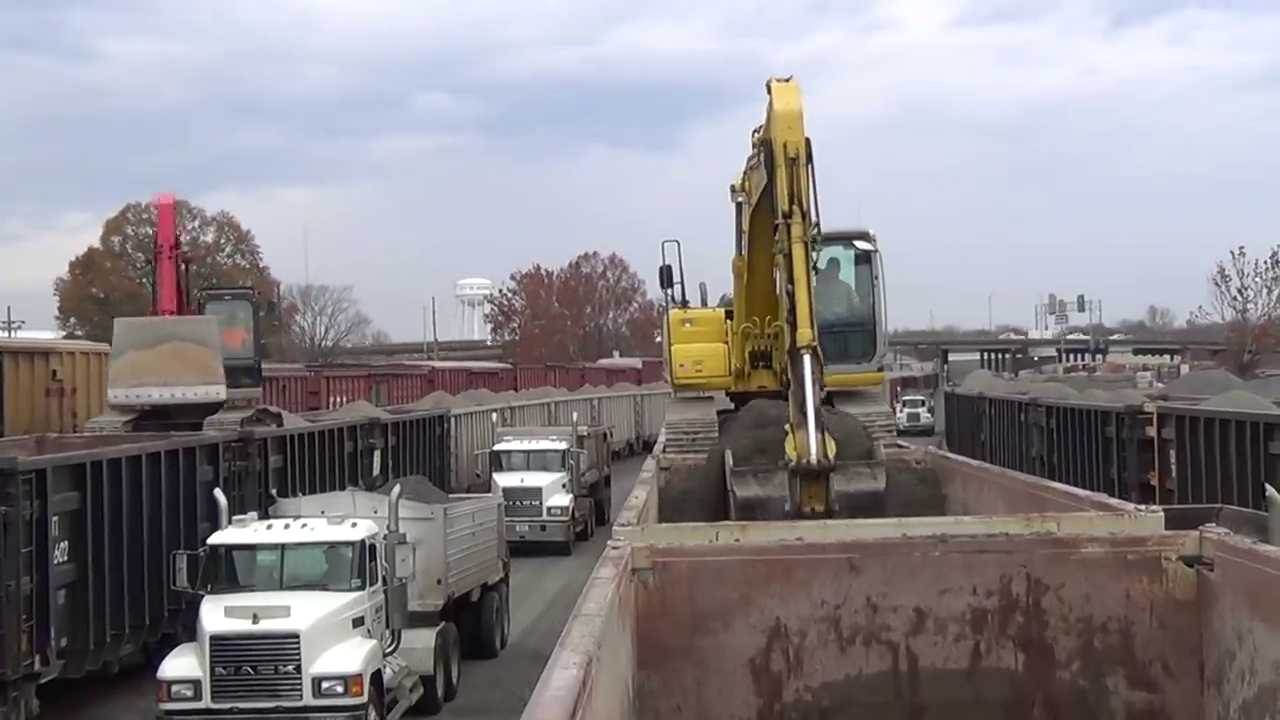excavator: (661, 75, 955, 522), (84, 194, 263, 443)
truck: (157, 486, 512, 716), (488, 425, 611, 555)
